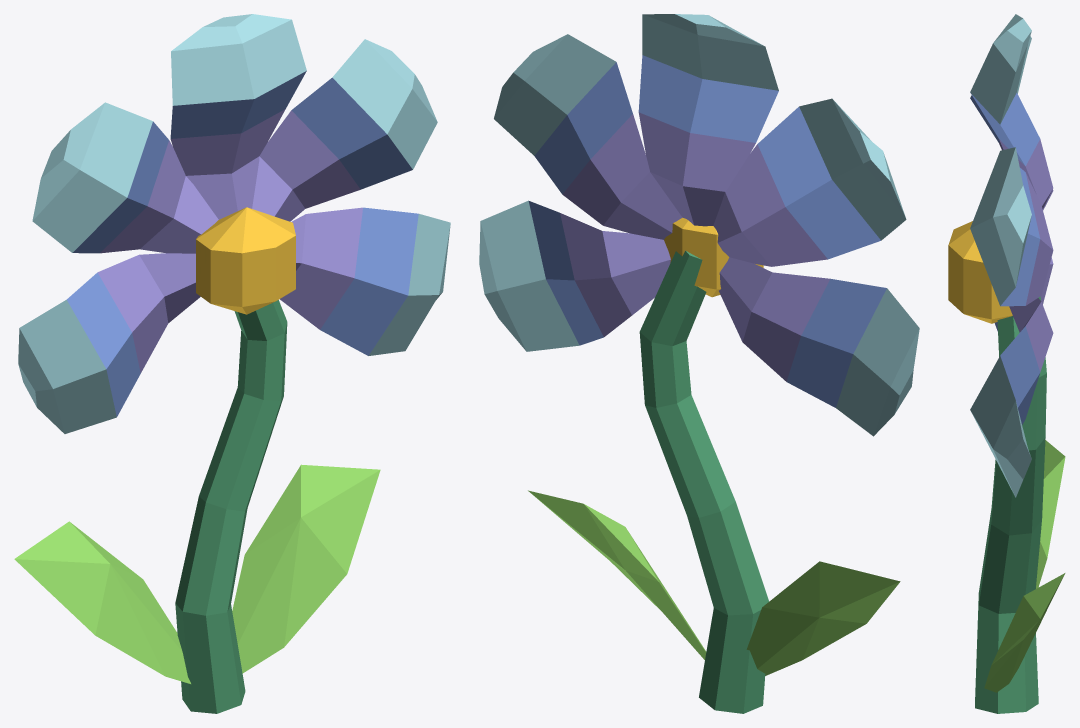
Rendered from 34-aurora-flower.glb.
3 renders of one model, left to right at view 1: azimuth 30°, elevation 25°; view 2: azimuth 150°, elevation 25°; view 3: azimuth 270°, elevation 25°, orthographic. The views are drawn at different scales.
Visible parts, largest first — view 1: 34-aurora-flower_Body; view 2: 34-aurora-flower_Body; view 3: 34-aurora-flower_Body.
Part boxes in pixels (x1,y1,x2,y2): 34-aurora-flower_Body: (14,14,450,713); 34-aurora-flower_Body: (479,14,919,713); 34-aurora-flower_Body: (948,14,1065,713).
Bounding box in the file's own units: 0.4715 × 0.7 × 0.108.
Materials: 1 (1 with a texture image).
